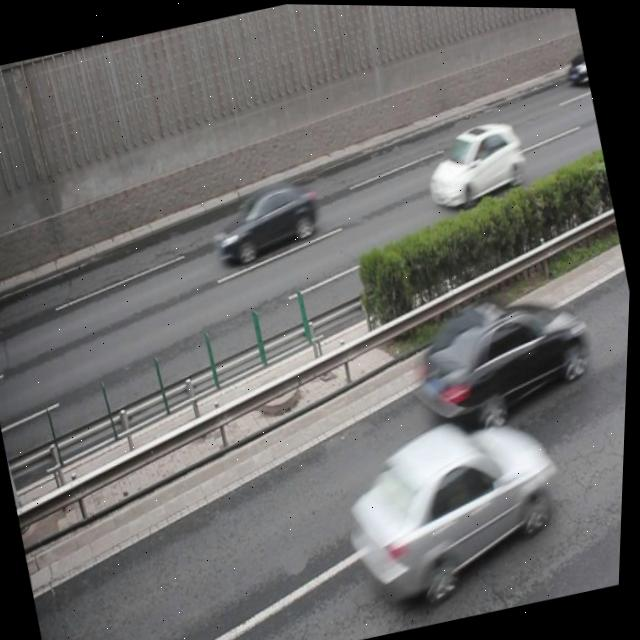car: (328, 395, 581, 623), (406, 273, 604, 437), (204, 171, 327, 268), (418, 112, 532, 212), (558, 35, 591, 87)
